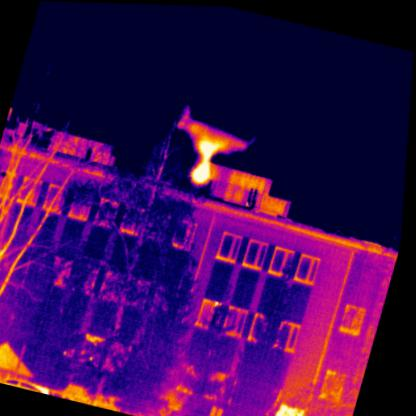drone: (161, 99, 262, 193)
